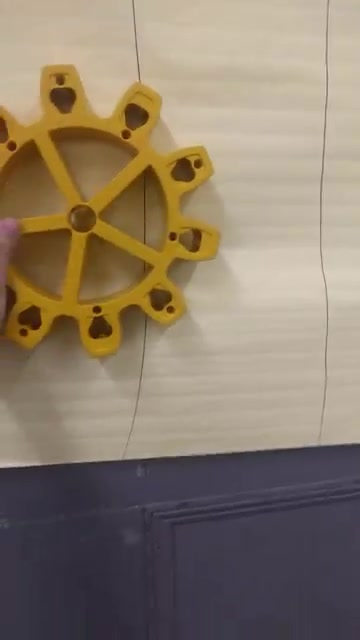gear: (1, 70, 224, 367)
